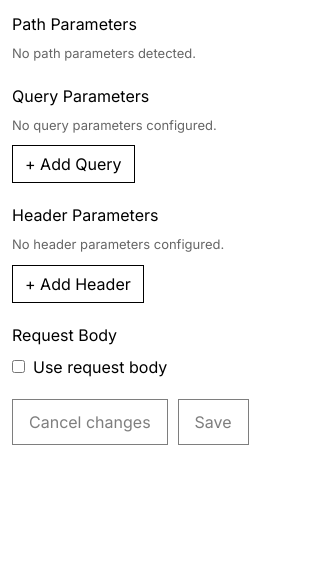
Test: RequestInputTab — Request Body › exposes JSON as the only Body Type when enabled
What coordinates should you click on to do the following:
click the checkbox labelled "Use request body"
I would click on:
 (18, 366)
Its box is [12, 360, 25, 373].
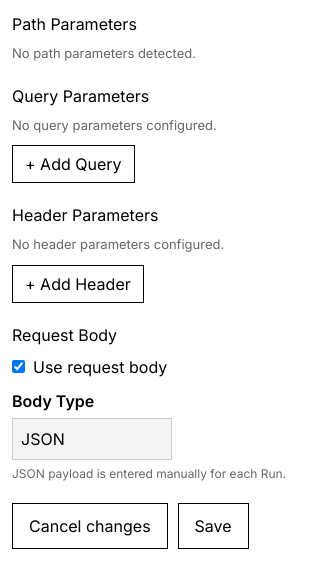
expect the field showing "JSON" is disabled: met, box [12, 418, 172, 460]
